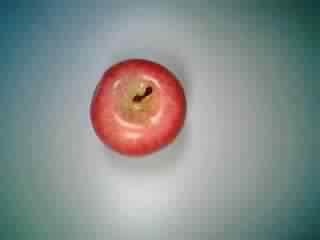apple: (84, 55, 190, 159)
